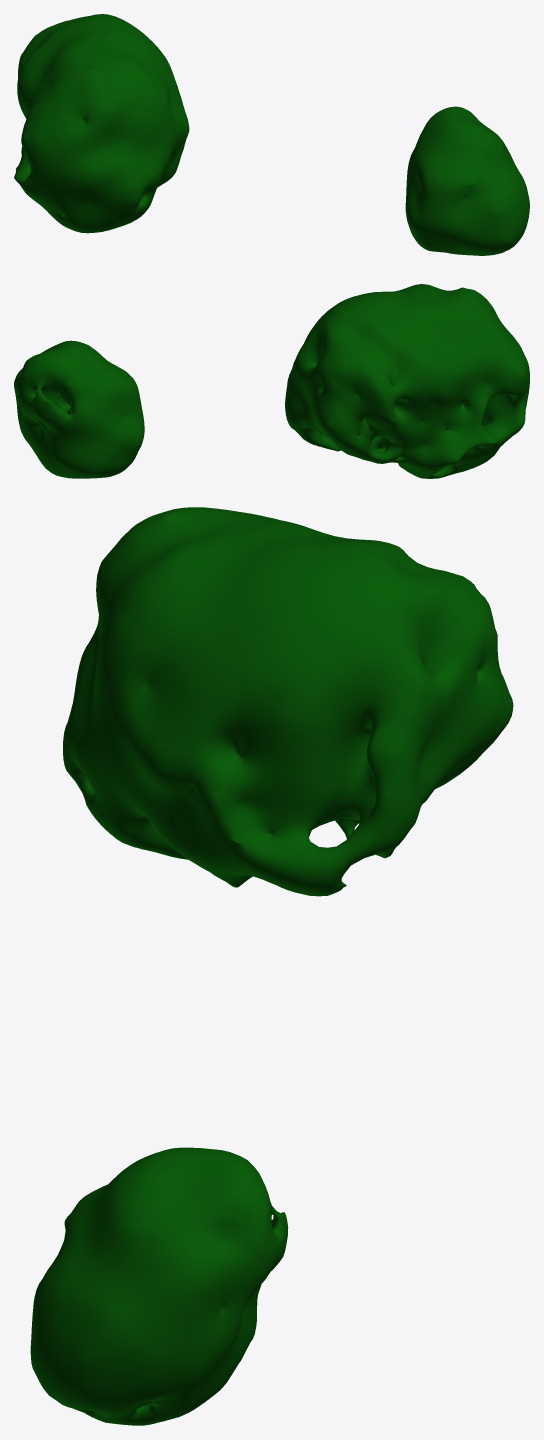
The model's file is Lesion.obj.
3 renders of one model, top to bottom at view 1: azimuth 30°, elevation 25°; view 2: azimuth 150°, elevation 25°; view 3: azimuth 270°, elevation 25°, orthographic. The views are drawn at different scales.
Visible parts, largest first — view 1: grp1; view 2: grp1; view 3: grp1.
Part boxes in pixels (left/top/right/bottom): grp1: left=14, top=14, right=529, bottom=255; grp1: left=14, top=284, right=529, bottom=478; grp1: left=30, top=507, right=513, bottom=1425.
Bounding box in the file's own units: 83.51 × 45.15 × 36.06.
